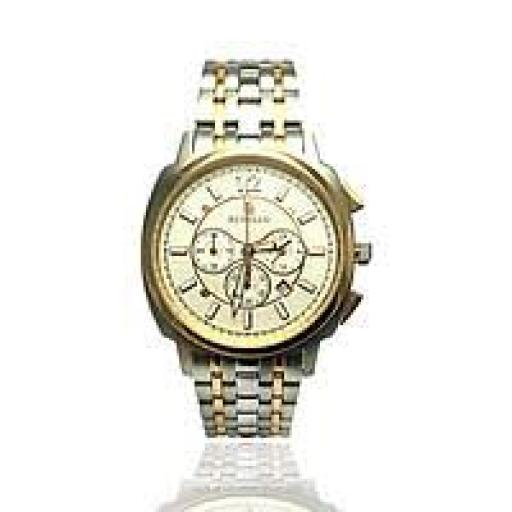KolSaati: (126, 36, 388, 465)
